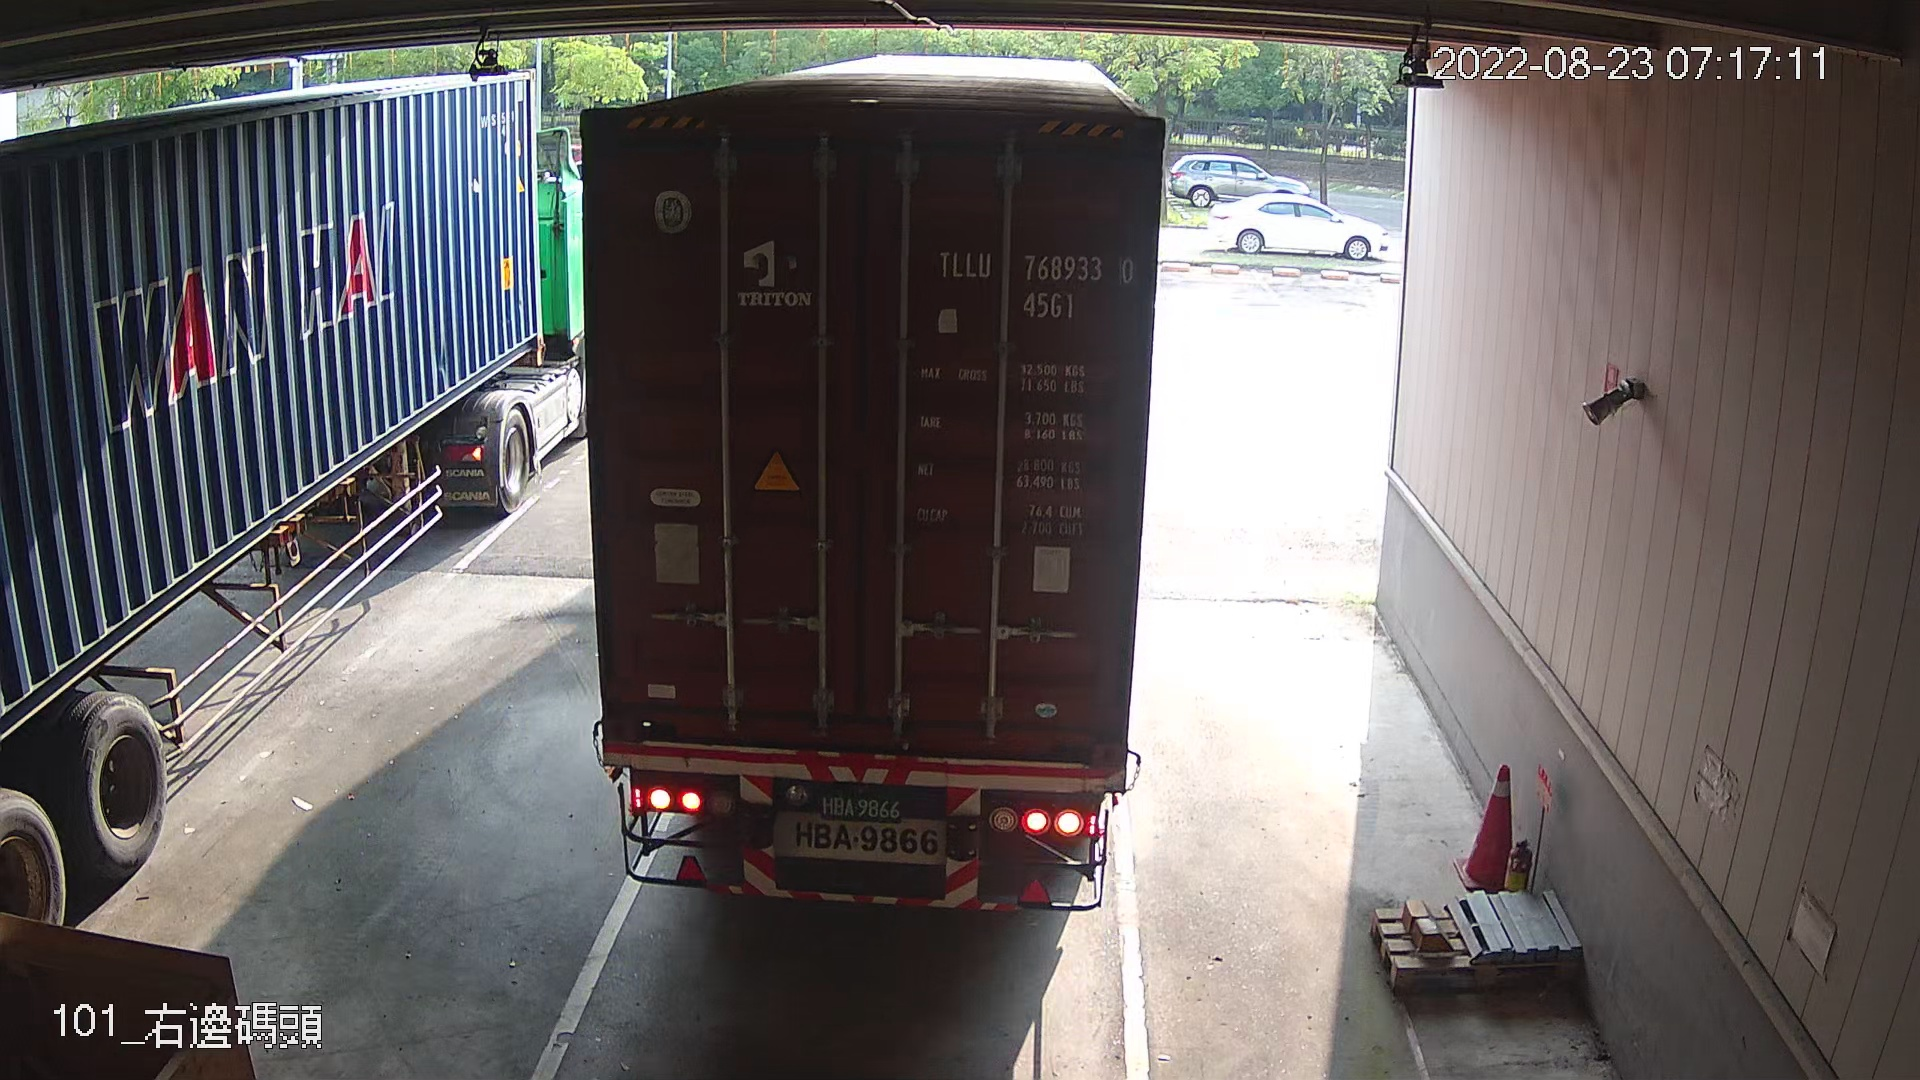container: (928, 236, 1142, 326)
